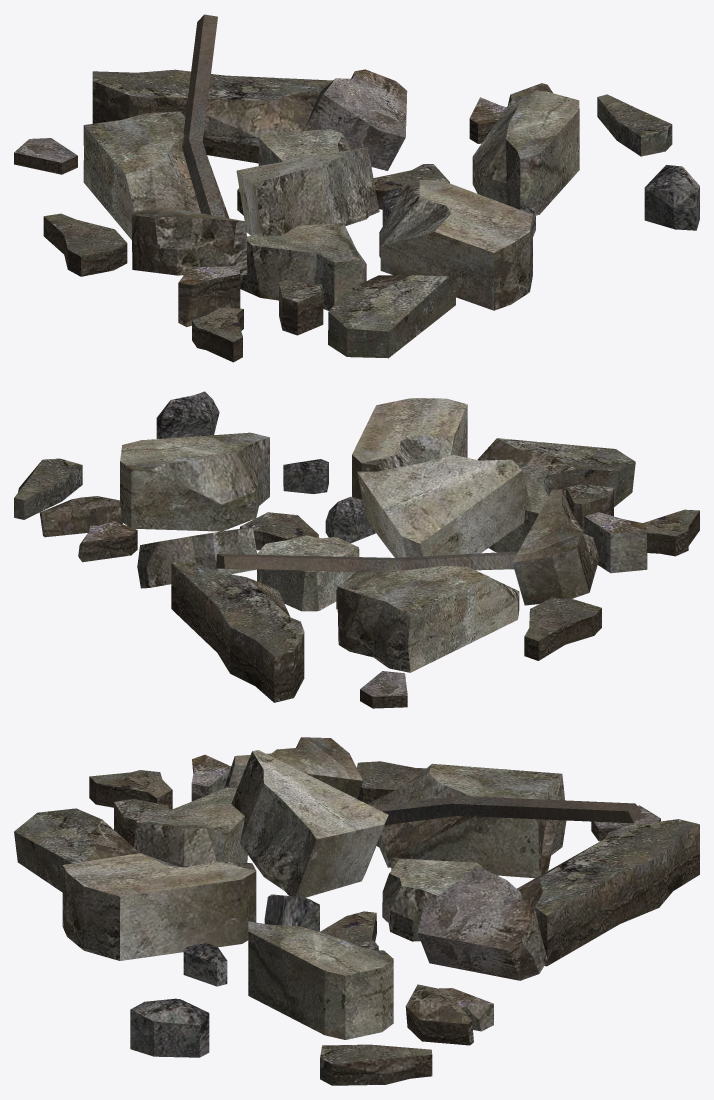
File: concrete_debris128pile001b.glb
3 renders of one model, top to bottom at view 1: azimuth 30°, elevation 25°; view 2: azimuth 150°, elevation 25°; view 3: azimuth 270°, elevation 25°, orthographic. The views are drawn at different scales.
Parts seen in each view (by area): view 1: 0_composite_debris; view 2: 0_composite_debris; view 3: 0_composite_debris.
Boxes of the visible parts, box(x1,y1,x2,y2) form: 0_composite_debris: box(14, 14, 699, 362); 0_composite_debris: box(14, 391, 699, 708); 0_composite_debris: box(14, 737, 699, 1085).
Size of the model in its own units: 3.07 by 0.5423 by 2.94.
1 material, 1 textured.
